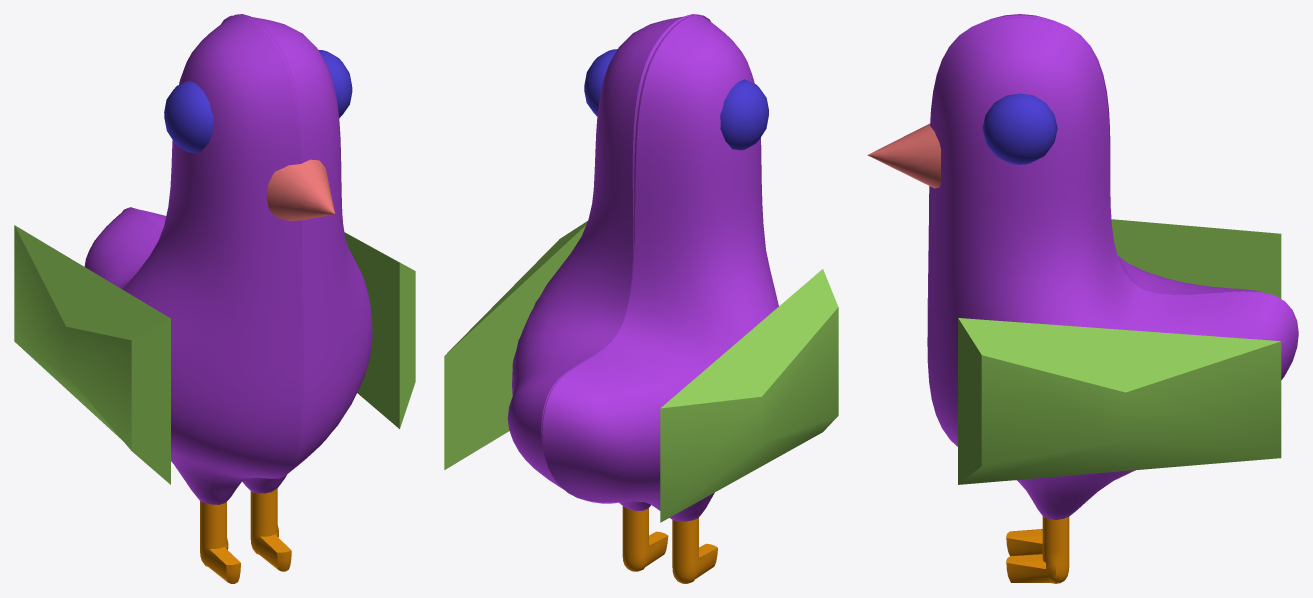
Rendered from birdtoy.fbx.
3 views of the same model, side by side, from view 1: azimuth 30°, elevation 25°; view 2: azimuth 150°, elevation 25°; view 3: azimuth 270°, elevation 25° (orthographic). The views are drawn at different scales.
Parts seen in each view (by area): view 1: Cube_2, Cube, Cone, Sphere, Cube_4, Cube_3, Sphere_1; view 2: Cube_2, Cube, Sphere, Cube_3, Cube_4, Sphere_1; view 3: Cube_2, Cube, Sphere_1, Cube_4, Cone, Cube_3.
Boxes of the visible parts, left/top/right/bottom form: Cube_2: left=84, top=14, right=372, bottom=504; Cube: left=14, top=225, right=415, bottom=484; Cone: left=266, top=159, right=334, bottom=221; Sphere: left=164, top=80, right=213, bottom=152; Cube_4: left=250, top=488, right=291, bottom=571; Cube_3: left=200, top=501, right=240, bottom=583; Sphere_1: left=318, top=49, right=352, bottom=117; Cube_2: left=507, top=14, right=778, bottom=521; Cube: left=444, top=221, right=838, bottom=522; Sphere: left=720, top=79, right=768, bottom=150; Cube_3: left=672, top=518, right=717, bottom=583; Cube_4: left=622, top=506, right=668, bottom=571; Sphere_1: left=584, top=49, right=617, bottom=115; Cube_2: left=927, top=14, right=1298, bottom=519; Cube: left=958, top=219, right=1281, bottom=484; Sphere_1: left=982, top=93, right=1057, bottom=164; Cube_4: left=1006, top=516, right=1069, bottom=583; Cone: left=867, top=123, right=940, bottom=188; Cube_3: left=1006, top=529, right=1042, bottom=555.
Bounding box in the file's own units: 369 × 687 × 485.
